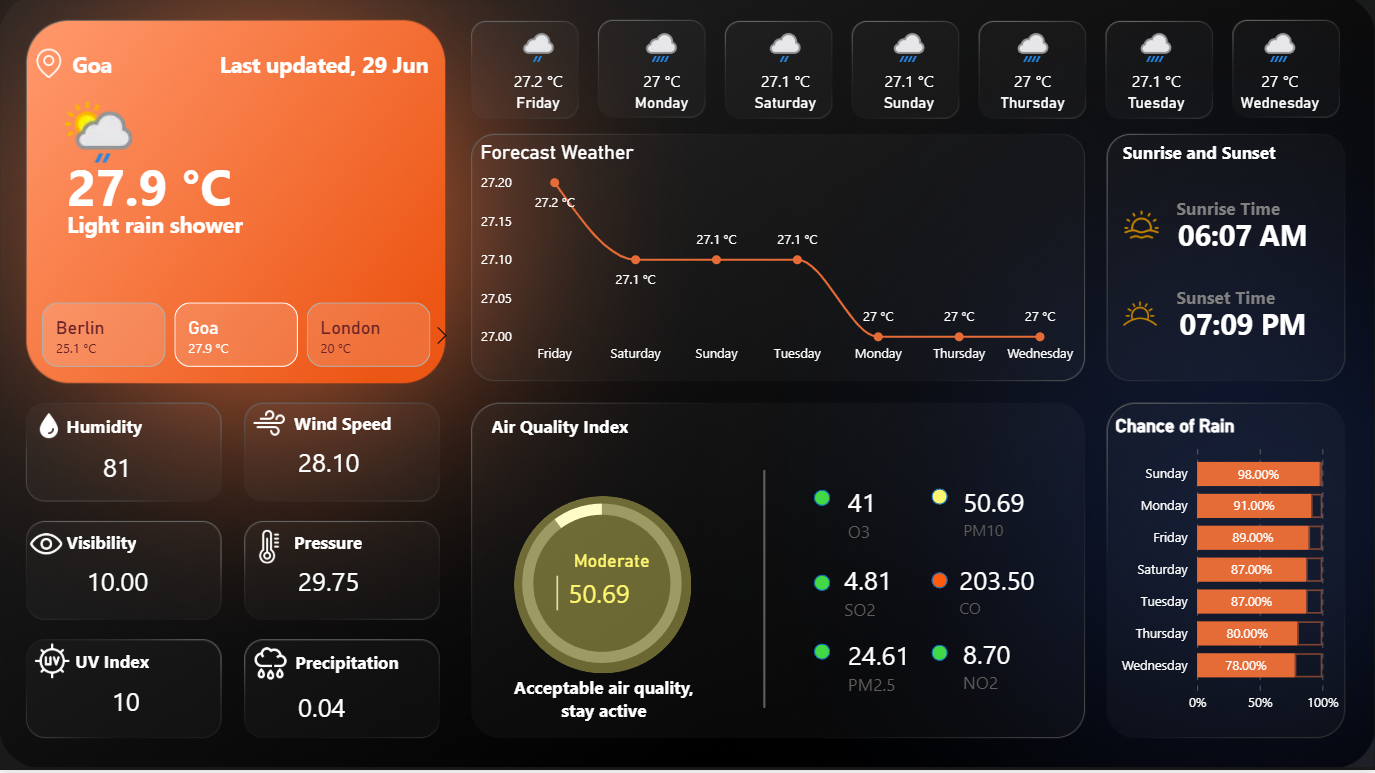

The page's visual inventory and layout, read from the dashboard file:
{"tool":"powerbi","page":{"name":"Page 1","canvas":[1280,720],"ordinal":0},"visuals":[{"type":"donutChart","fields":{"Y":["_Measures.left_pm10","Sum(Current.current.air_quality.pm10)"]},"box":[435.9,448.5,248,182.9],"z":0},{"type":"advancedSlicerVisual","fields":{"Values":["Locations.location.name"]},"box":[15.1,280.2,412.8,70.9],"z":1000},{"type":"shape","box":[55.8,124.4,224.4,103.5],"z":2000},{"type":"shape","box":[55.8,160.5,224.4,103.5],"z":3000},{"type":"shape","box":[60.5,10.5,224.4,104.7],"z":4000},{"type":"shape","box":[197.7,11.6,224.4,103.5],"z":5000},{"type":"image","box":[15.1,44.2,61.6,37.2],"z":6000},{"type":"cardVisual","fields":{"Data":["Min(Current.current.condition.icon)"]},"box":[34.9,70.9,108.1,89.5],"z":7000},{"type":"image","box":[217.4,597.7,69.8,46.5],"z":8000},{"type":"image","box":[222.1,491.9,58.1,40.7],"z":9000},{"type":"image","box":[12.8,487.2,61.6,45.3],"z":10000},{"type":"image","box":[222.1,376.7,58.1,40.7],"z":11000},{"type":"image","box":[24.4,382.6,44.2,34.9],"z":12000},{"type":"image","box":[16.3,596.5,66.3,44.2],"z":13000},{"type":"shape","box":[60.5,383.7,112.8,31.4],"z":14000},{"type":"shape","box":[272.1,381.4,112.8,31.4],"z":15000},{"type":"shape","box":[60.5,491.9,112.8,31.4],"z":16000},{"type":"shape","box":[272.1,491.9,112.8,31.4],"z":17000},{"type":"shape","box":[68.6,602.3,112.8,31.4],"z":18000},{"type":"shape","box":[273.3,603.5,112.8,31.4],"z":19000},{"type":"multiRowCard","fields":{"Values":["Sum(Current.current.humidity)"]},"box":[91.9,417.4,51.2,45.3],"z":20000},{"type":"multiRowCard","fields":{"Values":["Sum(Current.current.wind_kph)"]},"box":[273.3,412.8,81.4,45.3],"z":21000},{"type":"multiRowCard","fields":{"Values":["Sum(Current.current.vis_km)"]},"box":[76.7,523.3,76.7,45.3],"z":22000},{"type":"multiRowCard","fields":{"Values":["Sum(Current.current.uv)"]},"box":[100,634.9,51.2,45.3],"z":23000},{"type":"multiRowCard","fields":{"Values":["Sum(Current.current.pressure_in)"]},"box":[273.3,523.3,83.7,45.3],"z":24000},{"type":"multiRowCard","fields":{"Values":["Sum(Current.current.precip_in)"]},"box":[273.3,640.7,83.7,45.3],"z":25000},{"type":"advancedSlicerVisual","fields":{"Values":["Forecast_day.Day_name"]},"box":[443,17.4,809.3,98.8],"z":26000},{"type":"lineChart","title":"Forecast Weather","fields":{"Y":["Sum(Forecast_day.forecast.forecastday.day.avgtemp_c)"],"Category":["Forecast_day.Day_name"]},"box":[443.6,134.7,567.7,216.5],"z":27000},{"type":"shape","box":[1043,129.1,191.9,31.4],"z":28000},{"type":"shape","box":[1091.9,188.4,131.4,66.3],"z":29000},{"type":"shape","box":[1093,269.8,141.9,68.6],"z":30000},{"type":"shape","box":[1093,181.4,164,31.4],"z":31000},{"type":"shape","box":[1093,264,164,31.4],"z":32000},{"type":"image","box":[1037.2,191.9,51.2,41.9],"z":33000},{"type":"image","box":[1030.2,269.8,61.6,51.2],"z":34000},{"type":"hundredPercentStackedBarChart","title":"Chance of Rain","fields":{"Category":["Forecast_day.Day_name"],"Y":["Sum(Forecast_day.forecast.forecastday.day.daily_chance_of_rain)","Current.Left_value_rain"]},"box":[1033.7,389.5,217.4,286],"z":35000},{"type":"shape","box":[456,383.3,192.9,31.3],"z":36000},{"type":"multiRowCard","fields":{"Values":["Sum(Current.current.air_quality.pm10)"]},"box":[891.6,448.4,77.7,61.4],"z":37000},{"type":"multiRowCard","fields":{"Values":["Sum(Current.current.air_quality.co)"]},"box":[887.8,522.3,85.2,68.9],"z":38000},{"type":"multiRowCard","fields":{"Values":["Sum(Current.current.air_quality.no2)"]},"box":[891.6,591.2,81.4,75.2],"z":39000},{"type":"multiRowCard","fields":{"Values":["Sum(Current.current.air_quality.o3)"]},"box":[785.2,449.7,81.4,65.1],"z":40000},{"type":"multiRowCard","fields":{"Values":["Sum(Current.current.air_quality.so2)"]},"box":[781.4,522.4,81.4,68.9],"z":41000},{"type":"multiRowCard","fields":{"Values":["Sum(Current.current.air_quality.pm2_5)"]},"box":[785.2,591.3,81.4,68.9],"z":42000},{"type":"shape","box":[866.9,458.5,15,15],"z":43000},{"type":"shape","box":[866.9,536.2,15,15],"z":44000},{"type":"shape","box":[866.9,603.8,15,15],"z":45000},{"type":"shape","box":[757.9,459.7,15,15],"z":46000},{"type":"shape","box":[757.9,538.7,15,15],"z":47000},{"type":"shape","box":[757.9,602.5,15,15],"z":48000},{"type":"multiRowCard","fields":{"Values":["Sum(Current.current.air_quality.pm10)"]},"box":[528.6,509.8,97.7,81.4],"z":49000},{"type":"shape","box":[626.3,440.9,170.4,221.7],"z":50000},{"type":"shape","box":[478.5,456,165.4,165.4],"z":51000},{"type":"shape","box":[466,627.6,192.9,51.4],"z":52000}]}

Visuals, with their boxes in screenshot pixels (x1, y1, x2, y2), scaled from the page's 1280x720 canvas onto the 1375x773 screenshot:
donutChart - _Measures.left_pm10 x Sum(Current.current.air_quality.pm10): 468, 482, 735, 678
advancedSlicerVisual - Locations.location.name: 16, 301, 460, 377
shape: 60, 134, 301, 245
shape: 60, 172, 301, 283
shape: 65, 11, 306, 124
shape: 212, 12, 453, 124
image: 16, 47, 82, 87
cardVisual - Min(Current.current.condition.icon): 37, 76, 154, 172
image: 234, 642, 309, 692
image: 239, 528, 301, 572
image: 14, 523, 80, 572
image: 239, 404, 301, 448
image: 26, 411, 74, 448
image: 18, 640, 89, 688
shape: 65, 412, 186, 446
shape: 292, 409, 413, 443
shape: 65, 528, 186, 562
shape: 292, 528, 413, 562
shape: 74, 647, 195, 680
shape: 294, 648, 415, 682
multiRowCard - Sum(Current.current.humidity): 99, 448, 154, 497
multiRowCard - Sum(Current.current.wind_kph): 294, 443, 381, 492
multiRowCard - Sum(Current.current.vis_km): 82, 562, 165, 610
multiRowCard - Sum(Current.current.uv): 107, 682, 162, 730
multiRowCard - Sum(Current.current.pressure_in): 294, 562, 383, 610
multiRowCard - Sum(Current.current.precip_in): 294, 688, 383, 736
advancedSlicerVisual - Forecast_day.Day_name: 476, 19, 1345, 125
"Forecast Weather" lineChart: 477, 145, 1086, 377
shape: 1120, 139, 1327, 172
shape: 1173, 202, 1314, 273
shape: 1174, 290, 1327, 363
shape: 1174, 195, 1350, 228
shape: 1174, 283, 1350, 317
image: 1114, 206, 1169, 251
image: 1107, 290, 1173, 345
"Chance of Rain" hundredPercentStackedBarChart: 1110, 418, 1344, 725
shape: 490, 412, 697, 445
multiRowCard - Sum(Current.current.air_quality.pm10): 958, 481, 1041, 547
multiRowCard - Sum(Current.current.air_quality.co): 954, 561, 1045, 635
multiRowCard - Sum(Current.current.air_quality.no2): 958, 635, 1045, 715
multiRowCard - Sum(Current.current.air_quality.o3): 843, 483, 931, 553
multiRowCard - Sum(Current.current.air_quality.so2): 839, 561, 927, 635
multiRowCard - Sum(Current.current.air_quality.pm2_5): 843, 635, 931, 709
shape: 931, 492, 947, 508
shape: 931, 576, 947, 592
shape: 931, 648, 947, 664
shape: 814, 494, 830, 510
shape: 814, 578, 830, 594
shape: 814, 647, 830, 663
multiRowCard - Sum(Current.current.air_quality.pm10): 568, 547, 673, 635
shape: 673, 473, 856, 711
shape: 514, 490, 692, 667
shape: 501, 674, 708, 729
